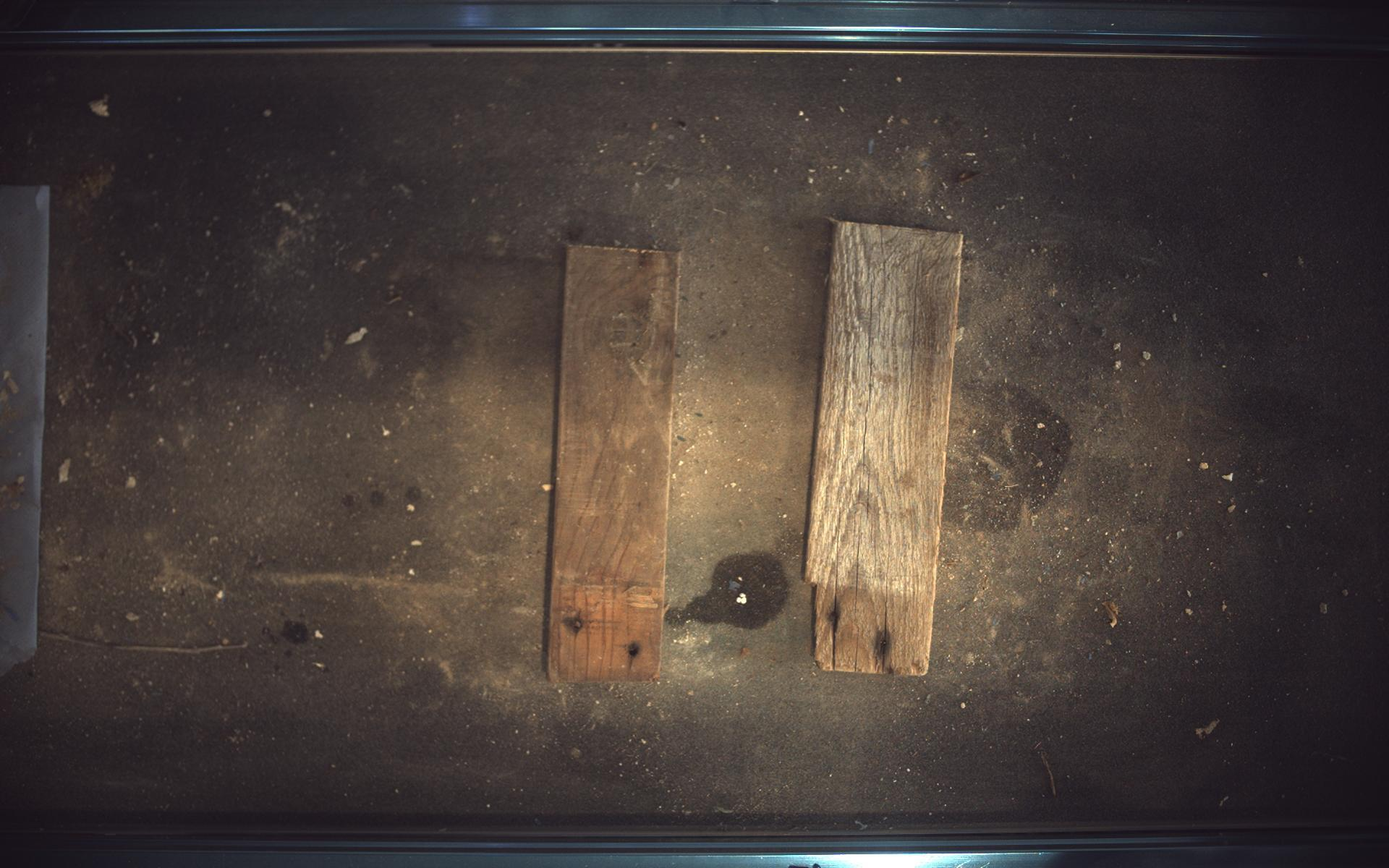wood: (807, 221, 964, 676), (547, 245, 681, 684)
